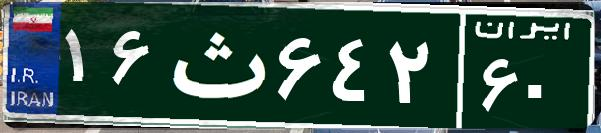0: (525, 38, 570, 115)
1: (57, 26, 110, 107)
2: (385, 28, 445, 110)
4: (330, 28, 385, 110)
6: (273, 28, 330, 110), (475, 38, 525, 113), (110, 28, 158, 105)
ث: (158, 15, 273, 115)
